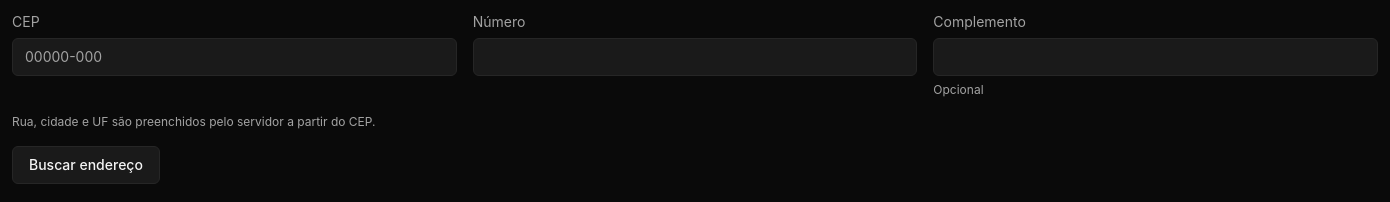
Test: AddressPicker › número vazio bloqueia o submit
The image size is (1390, 202).
Type "01310100" into the field labelled "CEP" at (234, 57), box [12,38,457,76]
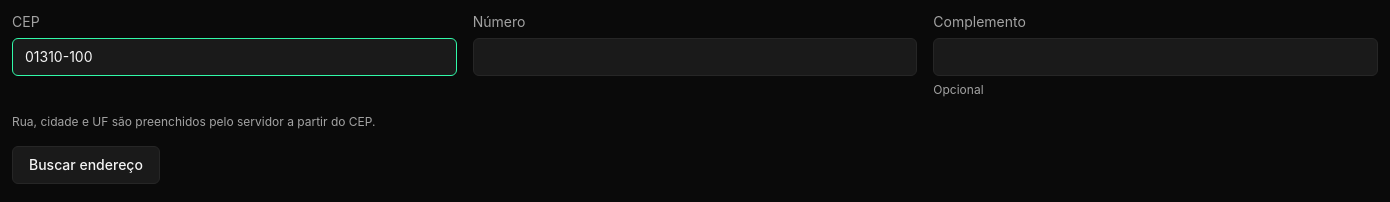
Click the button "Buscar endereço" at (86, 165), box [12,146,160,184]
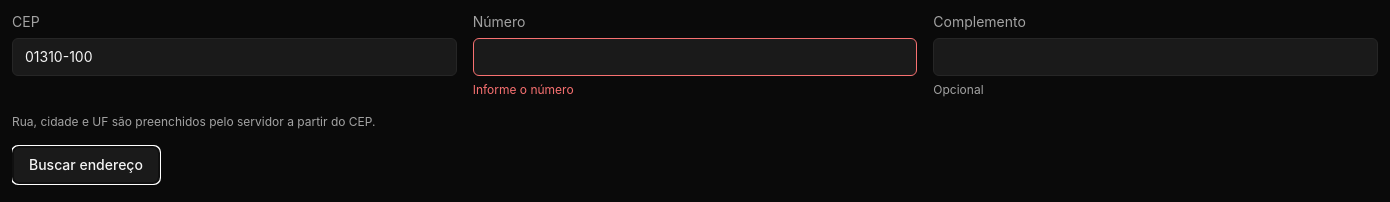
Expected: the text "Informe o número" is shown, [473,82,574,97]
